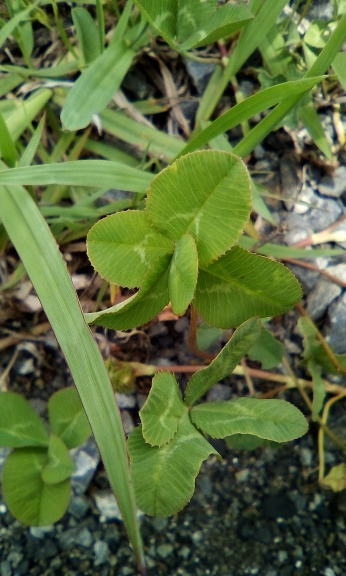4leaf: (81, 148, 304, 331), (126, 316, 310, 518), (1, 384, 97, 528)
